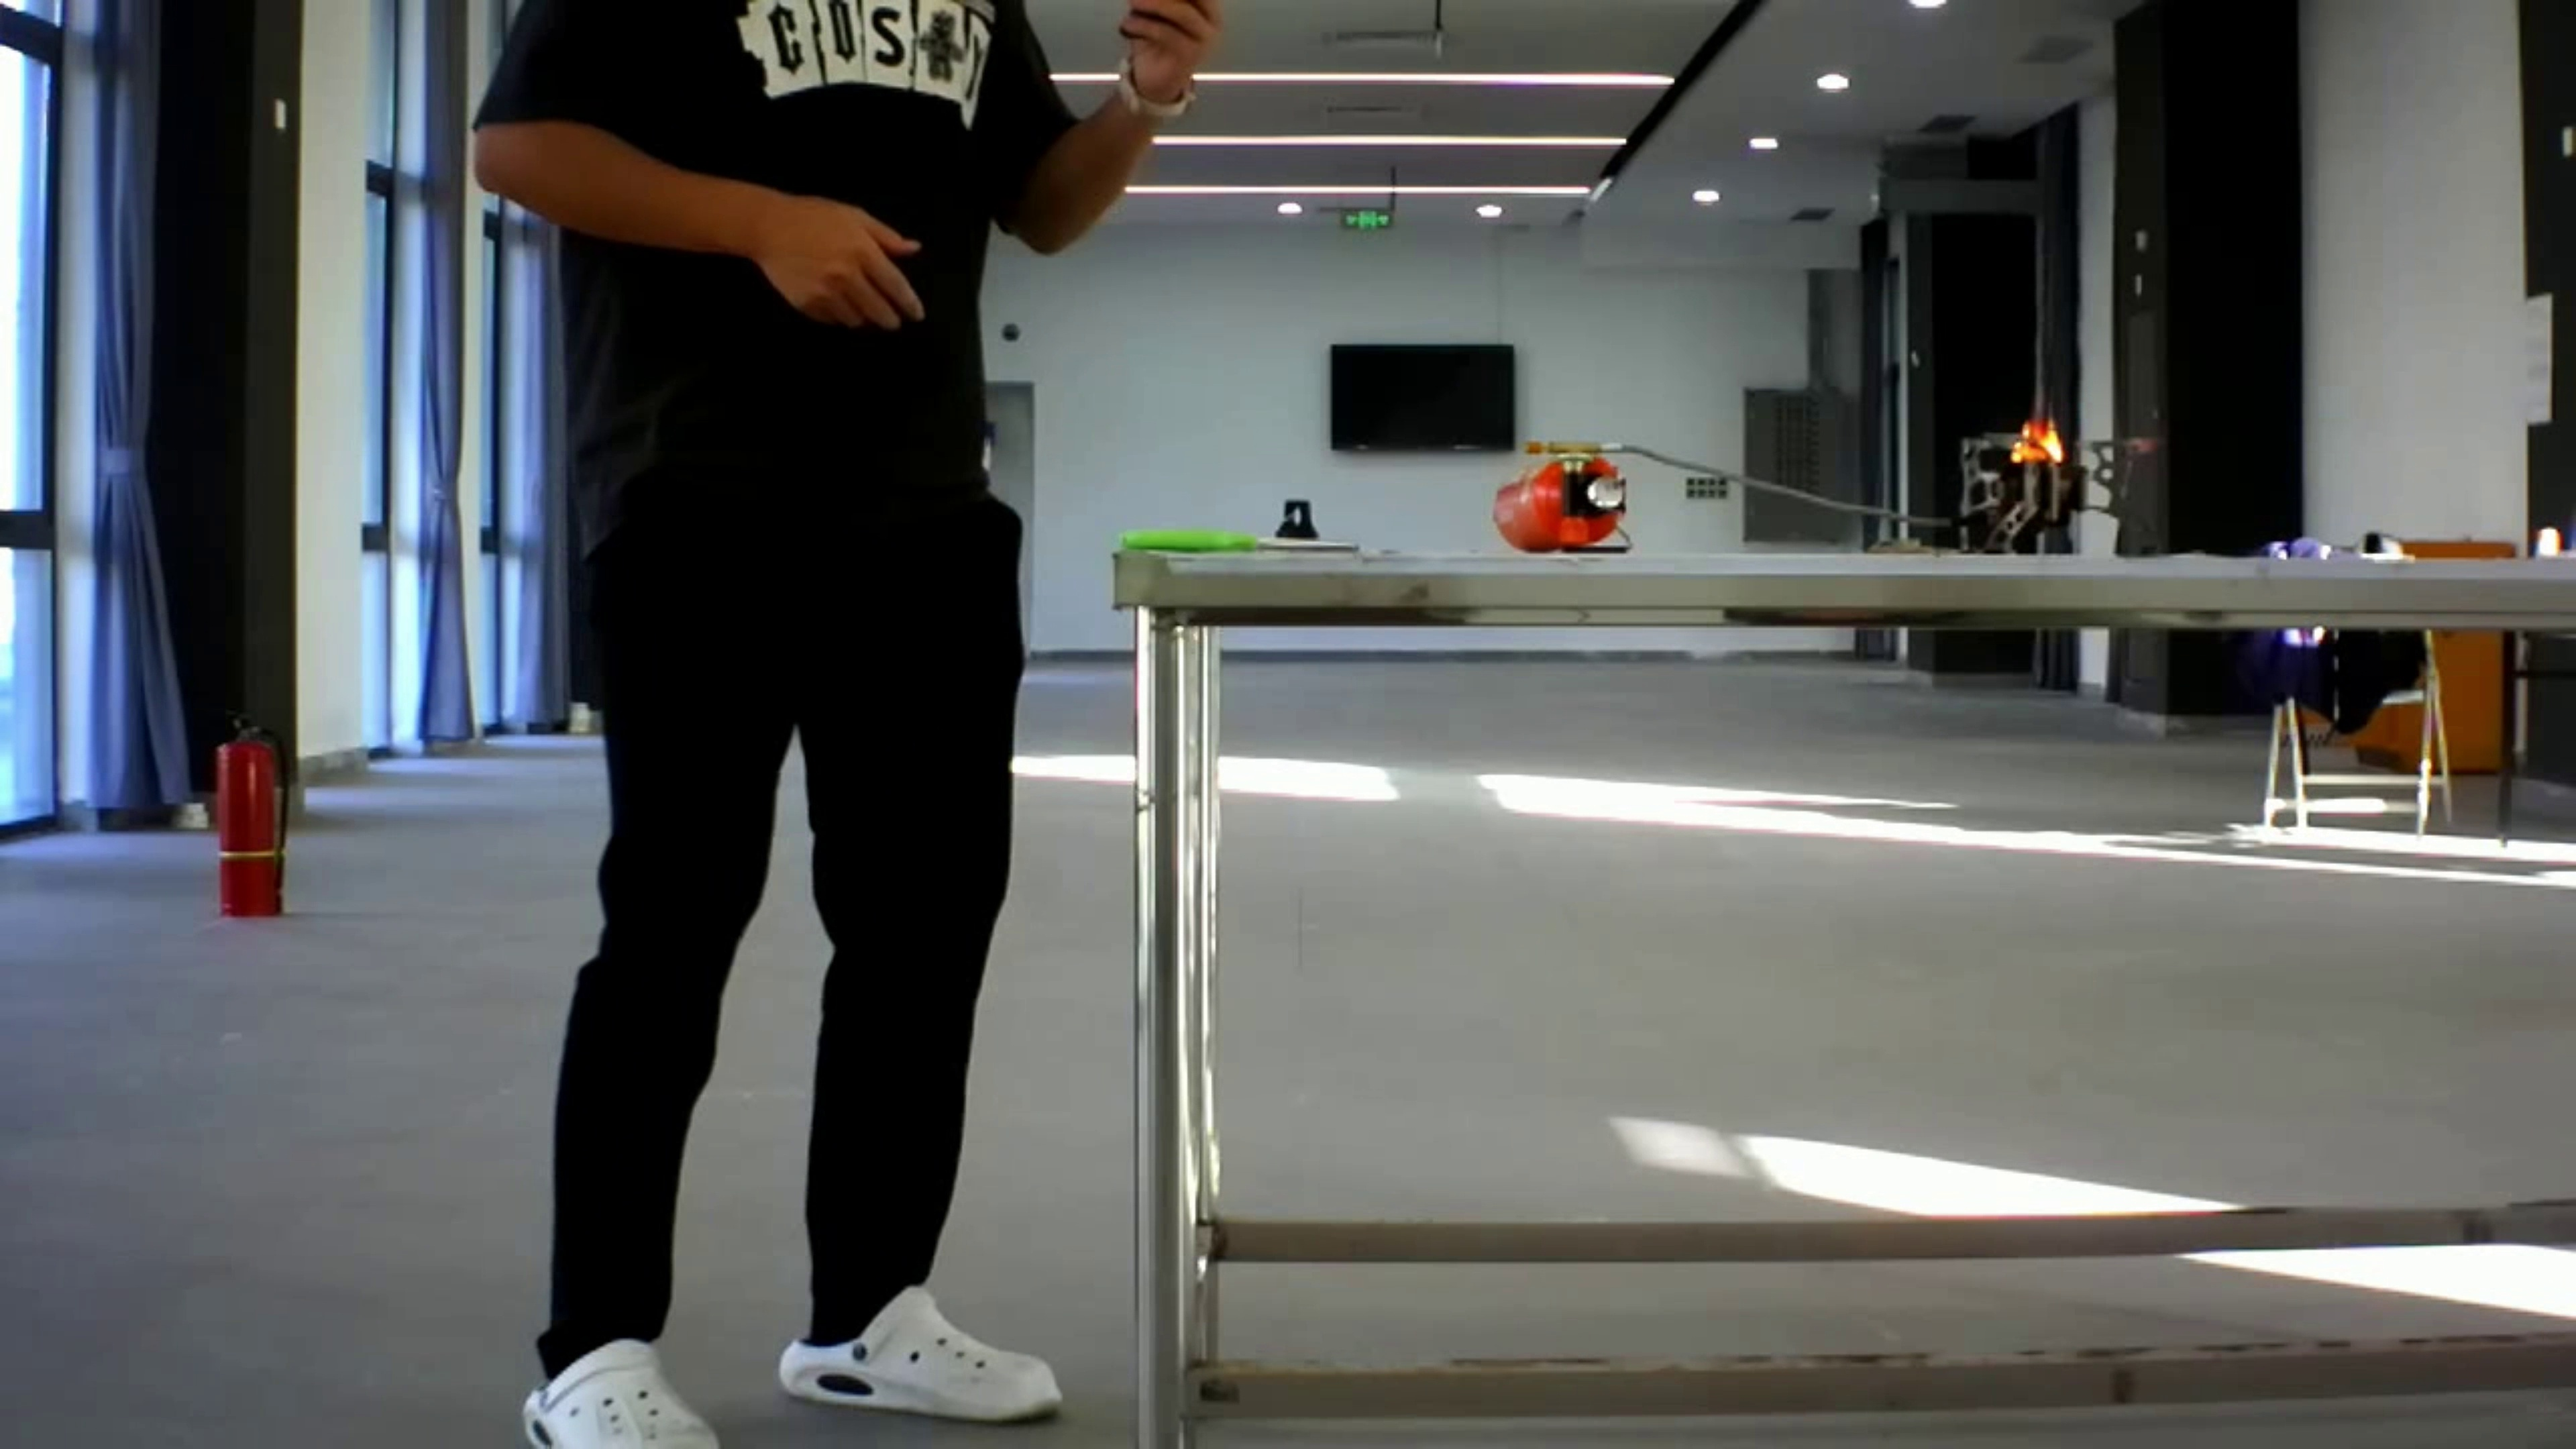Fire: (1992, 395, 2077, 478)
